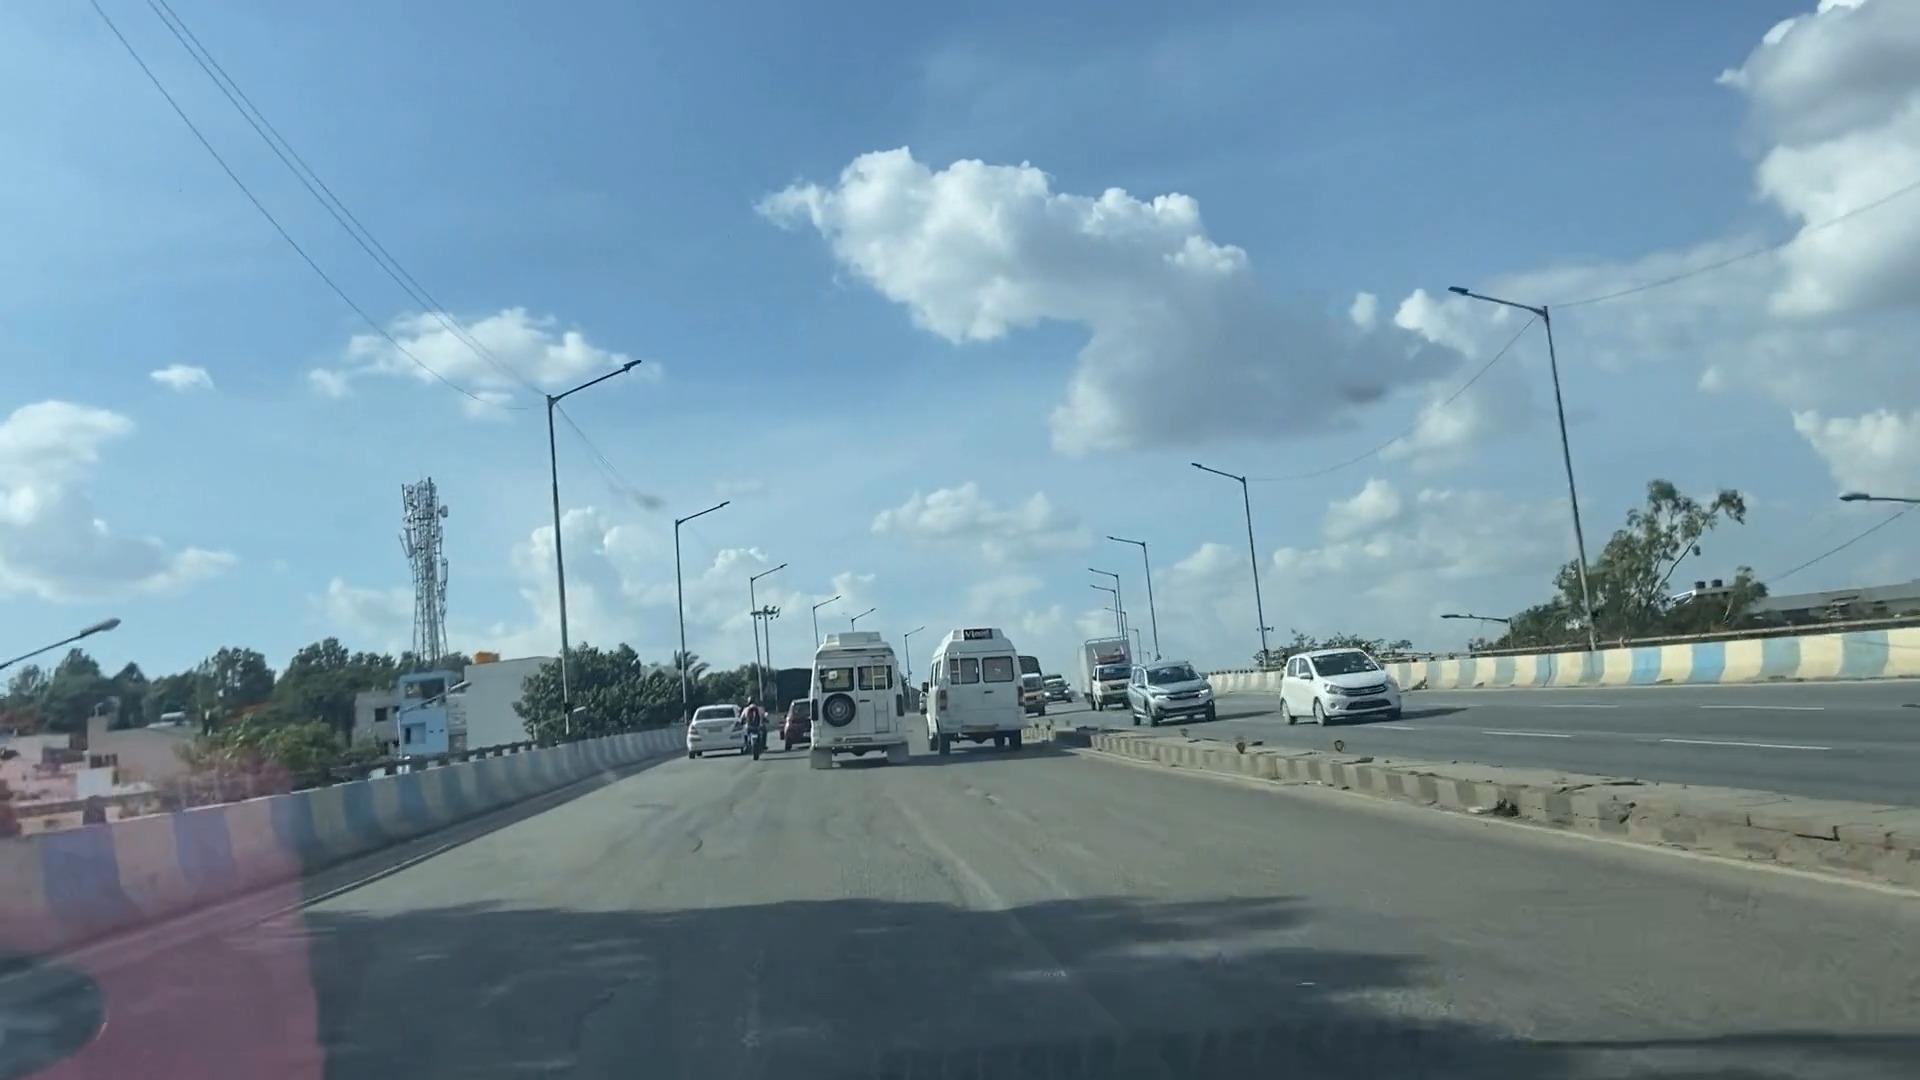HMV: (927, 620, 1031, 774), (808, 630, 920, 762)
